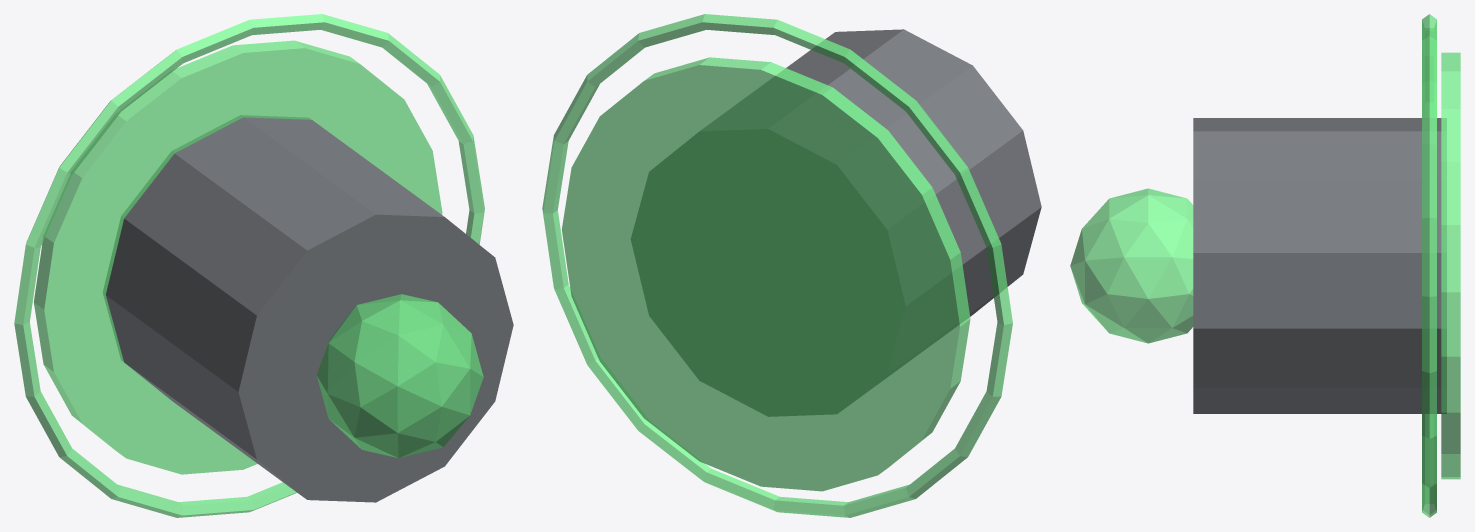
File: 10_recovery_station.glb
3 renders of one model, left to right at view 1: azimuth 30°, elevation 25°; view 2: azimuth 150°, elevation 25°; view 3: azimuth 270°, elevation 25°, orthographic. The views are drawn at different scales.
Visible parts, largest first — view 1: station_body, base_disc, core, base_ring; view 2: base_disc, station_body, base_ring; view 3: station_body, core, base_disc, base_ring.
Part boxes in pixels (x1,y1,x2,y2): station_body: [103, 115, 513, 502]; base_disc: [33, 40, 442, 474]; core: [316, 294, 483, 458]; base_ring: [14, 14, 484, 517]; base_disc: [561, 57, 970, 491]; station_body: [631, 29, 1041, 416]; base_ring: [542, 14, 1012, 517]; station_body: [1193, 118, 1446, 413]; core: [1070, 188, 1193, 343]; base_disc: [1441, 52, 1460, 479]; base_ring: [1422, 14, 1436, 517].
Size of the model in its own units: 1.3 by 1.3 by 1.
